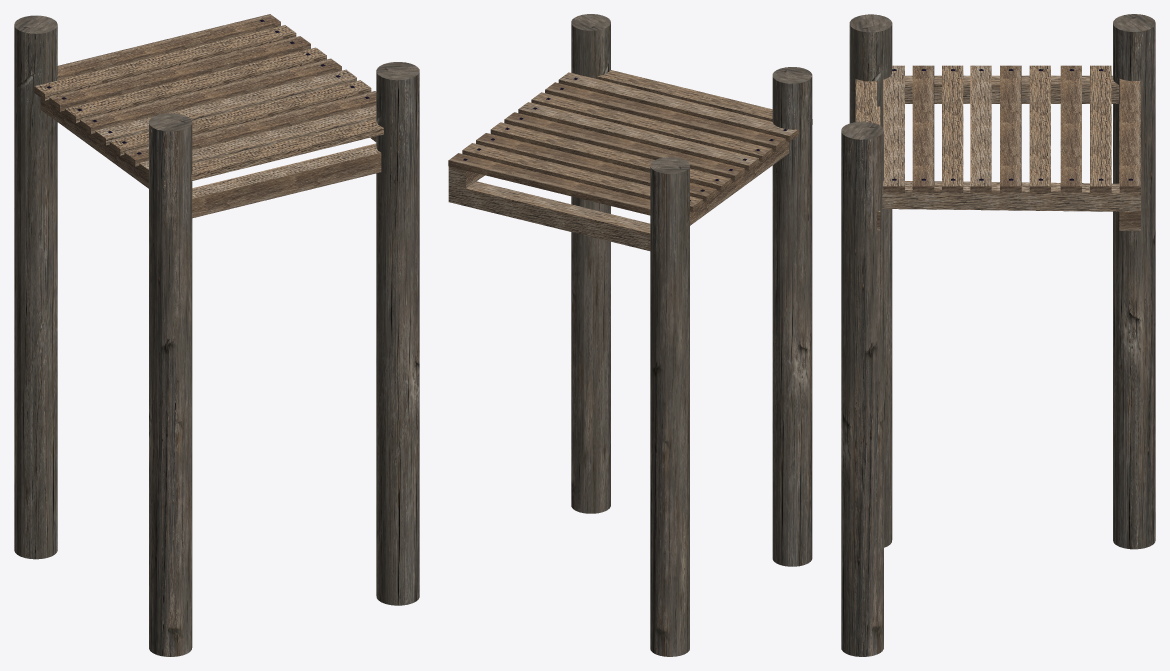
The model's file is maderaplataformafbx2.fbx.
3 views of the same model, side by side, from view 1: azimuth 30°, elevation 25°; view 2: azimuth 150°, elevation 25°; view 3: azimuth 270°, elevation 25° (orthographic). The views are drawn at different scales.
Visible parts, largest first — view 1: poste H, piso maderas 4x4.002, poste; view 2: poste H, piso maderas 4x4.002, poste, madera individual; view 3: piso maderas 4x4.002, poste H, poste, madera individual.
Part boxes in pixels (left/top/right/bottom): poste H: left=149, top=62, right=419, bottom=656; piso maderas 4x4.002: left=34, top=14, right=383, bottom=188; poste: left=14, top=15, right=57, bottom=559; poste H: left=571, top=14, right=812, bottom=566; piso maderas 4x4.002: left=448, top=70, right=812, bottom=225; poste: left=650, top=157, right=689, bottom=656; madera individual: left=448, top=181, right=650, bottom=250; piso maderas 4x4.002: left=855, top=65, right=1140, bottom=211; poste H: left=841, top=14, right=892, bottom=656; poste: left=1113, top=14, right=1155, bottom=549; madera individual: left=1119, top=104, right=1140, bottom=230.
Bounding box in the file's own units: 417 × 800 × 441.
Materials: 3 (2 with a texture image).
